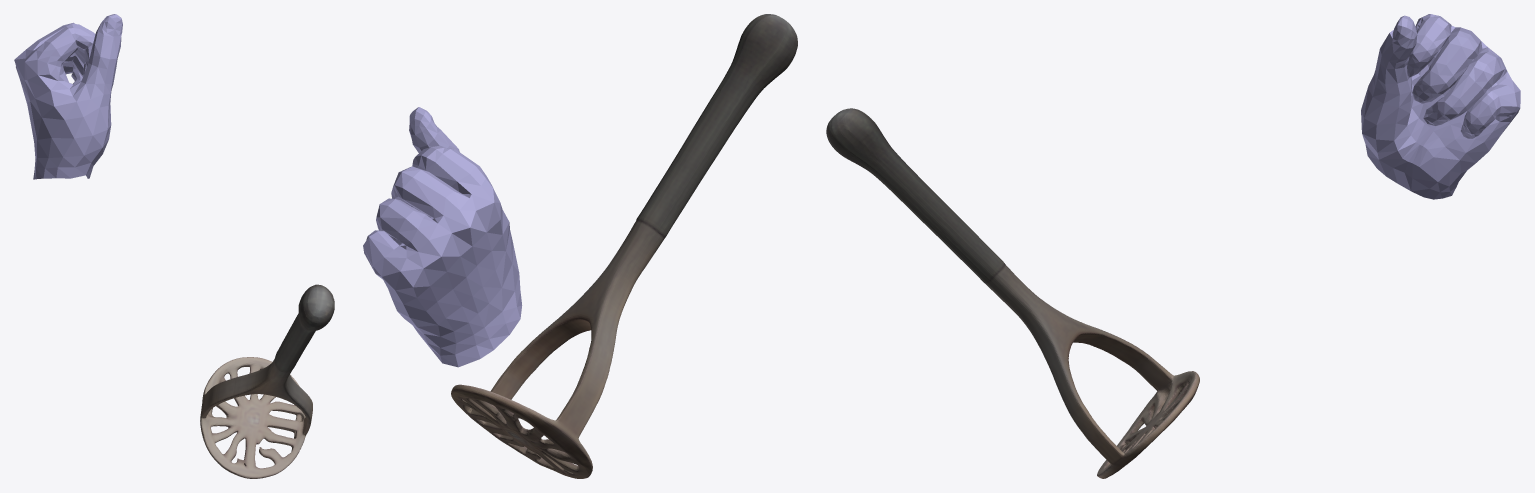
File: frame_0023_source_000023_hand_object.glb
3 renders of one model, left to right at view 1: azimuth 30°, elevation 25°; view 2: azimuth 150°, elevation 25°; view 3: azimuth 270°, elevation 25°, orthographic. The views are drawn at different scales.
Parts seen in each view (by area): view 1: world; view 2: world; view 3: world.
Boxes of the visible parts, x1=… form: world: x1=14, y1=14, x2=334, y2=478; world: x1=363, y1=14, x2=797, y2=478; world: x1=826, y1=14, x2=1520, y2=478.
Bounding box in the file's own units: 0.1179 × 0.2744 × 0.3899.
